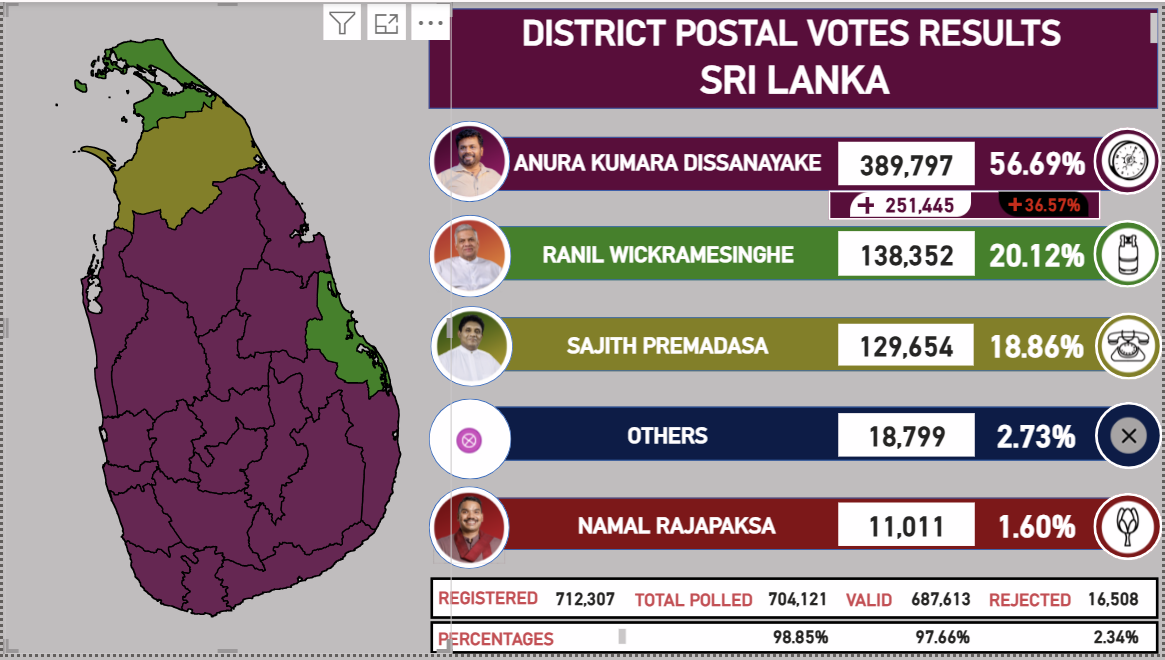

Layout of this report page (visuals, bound fields, positions):
{"tool":"powerbi","page":{"name":"Postal Votes","canvas":[1280,720],"ordinal":1},"visuals":[{"type":"shape","title":"5th Position Shape","box":[544,547.8,709.9,57.8],"z":0},{"type":"shape","title":"4th Position Shape","box":[544,447.2,711.7,59.6],"z":1000},{"type":"shape","title":"3rd Position Shape","box":[532.9,348.4,711.7,59.6],"z":2000},{"type":"shape","title":"2nd Position Shape","box":[536.6,247.8,711.7,59.6],"z":3000},{"type":"shape","title":"1st Position Shape","box":[529.1,149.1,711.7,59.6],"z":4000},{"type":"shapeMap","fields":{"Category":["Postal_Votes.District"]},"box":[1.4,0,494.4,719.6],"z":5000},{"type":"card","fields":{"Values":["Postal_Votes.FirstTopVotes_Postal"]},"box":[922.8,154.1,151.1,47.9],"z":6000},{"type":"card","fields":{"Values":["Postal_Votes.ThirdTopVotes_Postal"]},"box":[922.8,356,149.6,46.4],"z":7000},{"type":"card","fields":{"Values":["Postal_Votes.FourthTopVotes_Postal"]},"box":[922.8,453.2,151.1,47.9],"z":8000},{"type":"card","fields":{"Values":["Postal_Votes.SecondTopVotes_Postal"]},"box":[922.8,252.8,151.1,49.4],"z":9000},{"type":"card","fields":{"Values":["Postal_Valid_Votes.Vote_Percentage_1st_bar"]},"box":[1072.3,141.6,137.2,66.4],"z":10000},{"type":"card","fields":{"Values":["Postal_Valid_Votes.Vote_Percentage_2nd_bar"]},"box":[1073.2,244.1,137.9,65.2],"z":11000},{"type":"card","fields":{"Values":["Postal_Valid_Votes.Vote_Percentage_3rd_bar"]},"box":[1072.4,345.5,136.1,61.3],"z":12000},{"type":"card","fields":{"Values":["Postal_Valid_Votes.Vote_Percentage_4th_bar"]},"box":[1072.3,442.5,135.7,66.4],"z":13000},{"type":"shape","box":[470.4,131.5,90,90],"z":14000},{"type":"shape","box":[469.5,234.8,91.3,91.3],"z":15000},{"type":"shape","box":[471.4,335.4,91.3,89.4],"z":16000},{"type":"shape","box":[469.5,437.8,91.3,89.4],"z":17000},{"type":"shape","box":[1204.9,138.3,75,75],"z":18000},{"type":"shape","box":[1204.9,240.7,75.3,75.3],"z":19000},{"type":"shape","box":[1205.5,342.8,74.5,74.5],"z":20000},{"type":"shape","box":[1205.5,441.6,74.5,74.5],"z":21000},{"type":"card","fields":{"Values":["Postal_Votes.FirstTopCandidateName_Postal"]},"box":[532.9,109.9,402.4,134.1],"z":22000},{"type":"card","fields":{"Values":["Postal_Votes.SecondTopCandidateName_Postal"]},"box":[544,210.5,382,136],"z":23000},{"type":"card","fields":{"Values":["Postal_Votes.ThirdTopCandidateName_Postal"]},"box":[532.9,311.1,402.4,136],"z":24000},{"type":"card","fields":{"Values":["Postal_Votes.FourthTopCandidateName_Postal"]},"box":[532.9,411.8,402.4,134.1],"z":25000},{"type":"shape","box":[1203.6,542.2,76.4,74.5],"z":26000},{"type":"shape","box":[469.5,534.7,89.4,91.3],"z":27000},{"type":"imageDB603108E3FF4EBFB8047F5653368E8C","fields":{"imageUrl":["Postal_Votes.Image_2nd_Rank_Postal"]},"box":[470.4,235.2,90.1,90.1],"z":28000},{"type":"imageDB603108E3FF4EBFB8047F5653368E8C","fields":{"imageUrl":["Postal_Votes.Image_1st_Rank_Postal"]},"box":[470.4,131,90.1,90.1],"z":29000},{"type":"imageDB603108E3FF4EBFB8047F5653368E8C","fields":{"imageUrl":["Postal_Votes.Image_3rd_Rank_Postal"]},"box":[471.4,335.4,91.3,89.4],"z":30000},{"type":"imageDB603108E3FF4EBFB8047F5653368E8C","fields":{"imageUrl":["Postal_Votes.Image_5th_Rank_Postal"]},"box":[469.5,534.7,89.4,91.3],"z":31000},{"type":"imageDB603108E3FF4EBFB8047F5653368E8C","fields":{"imageUrl":["Postal_Votes.Party_1st_Rank_Postal"]},"box":[1208.5,140.8,70.4,70.4],"z":32000},{"type":"imageDB603108E3FF4EBFB8047F5653368E8C","fields":{"imageUrl":["Postal_Votes.Party_2nd_Rank_Postal"]},"box":[1208.5,243.7,70.4,70.4],"z":33000},{"type":"imageDB603108E3FF4EBFB8047F5653368E8C","fields":{"imageUrl":["Postal_Votes.Party_3rd_Rank_Postal"]},"box":[1207,345.1,70.4,70.4],"z":34000},{"type":"imageDB603108E3FF4EBFB8047F5653368E8C","fields":{"imageUrl":["Postal_Votes.Party_4th_Rank_Postal"]},"box":[1207,443.7,70.4,70.4],"z":35000},{"type":"imageDB603108E3FF4EBFB8047F5653368E8C","fields":{"imageUrl":["Postal_Votes.Party_5th_Rank_Postal"]},"box":[1207,545.1,69,69],"z":36000},{"type":"imageDB603108E3FF4EBFB8047F5653368E8C","fields":{"imageUrl":["Postal_Votes.Image_4th_Rank_Postal"]},"box":[469.5,439.7,89.4,89.4],"z":37000},{"type":"card","fields":{"Values":["Postal_Votes.FifthTopCandidateName_Postal"]},"box":[544,510.5,400.6,134.1],"z":38000},{"type":"card","fields":{"Values":["Postal_Votes.FifthTopVotes_Postal"]},"box":[922.8,551.9,151.1,47.9],"z":39000},{"type":"card","fields":{"Values":["Postal_Valid_Votes.Vote_Percentage_5th_bar"]},"box":[1072.4,542.9,136.1,64.3],"z":40000},{"type":"shape","box":[471.1,635.2,804.2,46],"z":41000},{"type":"shape","box":[471.1,683.6,804.2,36],"z":42000},{"type":"textbox","box":[476.1,642.6,130.5,36],"z":43000},{"type":"textbox","box":[693.6,645.1,159.1,46],"z":44000},{"type":"textbox","box":[926,645.1,72.1,46],"z":45000},{"type":"textbox","box":[1083.9,645.1,110.6,46],"z":46000},{"type":"textbox","box":[476.1,687.4,217.5,28.6],"z":47000},{"type":"card","fields":{"Values":["Sum(Postal_Valid_Votes.Registered)"]},"box":[582.9,637.6,119.3,43.5],"z":48000},{"type":"card","fields":{"Values":["Sum(Postal_Valid_Votes.Total_Polled)"]},"box":[817.9,637.6,119.3,43.5],"z":49000},{"type":"card","fields":{"Values":["Sum(Postal_Valid_Votes.Total_Valid)"]},"box":[975.7,637.6,119.3,43.5],"z":50000},{"type":"card","fields":{"Values":["Postal_Valid_Votes.Rejected_Postal_Votes"]},"box":[1172.1,637.6,108.1,43.5],"z":51000},{"type":"card","fields":{"Values":["Postal_Valid_Votes.Polled_Percentage_Postal"]},"box":[821.1,681.7,118.3,38],"z":52000},{"type":"card","fields":{"Values":["Postal_Valid_Votes.Valid_Percentage_Postal"]},"box":[978.9,681.7,119.7,38],"z":53000},{"type":"card","fields":{"Values":["Postal_Valid_Votes.Rejected_Percentage_Postal"]},"box":[1181.7,681.7,97.2,38],"z":54000},{"type":"shape","box":[469.8,7.5,805.4,110.6],"z":55000},{"type":"card","title":"District","fields":{"Values":["Postal_Votes.District_Display_Postal"]},"box":[509.6,46,729.6,69.6],"z":56000},{"type":"shape","box":[911,207.3,300.6,32.4],"z":57000},{"type":"image","box":[1095,188.8,108.8,70],"z":58000},{"type":"image","box":[852.3,204.2,299.6,37.9],"z":59000},{"type":"card","fields":{"Values":["Postal_Votes.Vote_Difference_Postal"]},"box":[953,194.8,119.7,57],"z":60000},{"type":"card","fields":{"Values":["Postal_Votes.Percentage_Difference_Postal"]},"box":[1118.8,210,82.5,28.8],"z":61000},{"type":"image","box":[1105.4,210.8,24.6,26.9],"z":62000},{"type":"shape","box":[944.6,215.1,18.1,18.1],"z":63000},{"type":"shape","box":[944.9,215.3,17.8,18.6],"z":64000},{"type":"textbox","box":[470.4,7,809.9,47.9],"z":65000}]}

Visuals, with their boxes in screenshot pixels (x1, y1, x2, y2), scaled from the page's 1280x720 canvas onto the 1165x660 screenshot:
"5th Position Shape" shape: {"left": 495, "top": 502, "right": 1141, "bottom": 555}
"4th Position Shape" shape: {"left": 495, "top": 410, "right": 1143, "bottom": 465}
"3rd Position Shape" shape: {"left": 485, "top": 319, "right": 1133, "bottom": 374}
"2nd Position Shape" shape: {"left": 488, "top": 227, "right": 1136, "bottom": 282}
"1st Position Shape" shape: {"left": 482, "top": 137, "right": 1129, "bottom": 191}
shapeMap - Postal_Votes.District: {"left": 1, "top": 0, "right": 451, "bottom": 659}
card - Postal_Votes.FirstTopVotes_Postal: {"left": 840, "top": 141, "right": 977, "bottom": 185}
card - Postal_Votes.ThirdTopVotes_Postal: {"left": 840, "top": 326, "right": 976, "bottom": 369}
card - Postal_Votes.FourthTopVotes_Postal: {"left": 840, "top": 415, "right": 977, "bottom": 459}
card - Postal_Votes.SecondTopVotes_Postal: {"left": 840, "top": 232, "right": 977, "bottom": 277}
card - Postal_Valid_Votes.Vote_Percentage_1st_bar: {"left": 976, "top": 130, "right": 1101, "bottom": 191}
card - Postal_Valid_Votes.Vote_Percentage_2nd_bar: {"left": 977, "top": 224, "right": 1102, "bottom": 284}
card - Postal_Valid_Votes.Vote_Percentage_3rd_bar: {"left": 976, "top": 317, "right": 1100, "bottom": 373}
card - Postal_Valid_Votes.Vote_Percentage_4th_bar: {"left": 976, "top": 406, "right": 1099, "bottom": 466}
shape: {"left": 428, "top": 121, "right": 510, "bottom": 203}
shape: {"left": 427, "top": 215, "right": 510, "bottom": 299}
shape: {"left": 429, "top": 307, "right": 512, "bottom": 389}
shape: {"left": 427, "top": 401, "right": 510, "bottom": 483}
shape: {"left": 1097, "top": 127, "right": 1164, "bottom": 196}
shape: {"left": 1097, "top": 221, "right": 1164, "bottom": 290}
shape: {"left": 1097, "top": 314, "right": 1164, "bottom": 383}
shape: {"left": 1097, "top": 405, "right": 1164, "bottom": 473}
card - Postal_Votes.FirstTopCandidateName_Postal: {"left": 485, "top": 101, "right": 851, "bottom": 224}
card - Postal_Votes.SecondTopCandidateName_Postal: {"left": 495, "top": 193, "right": 843, "bottom": 318}
card - Postal_Votes.ThirdTopCandidateName_Postal: {"left": 485, "top": 285, "right": 851, "bottom": 410}
card - Postal_Votes.FourthTopCandidateName_Postal: {"left": 485, "top": 377, "right": 851, "bottom": 500}
shape: {"left": 1095, "top": 497, "right": 1164, "bottom": 565}
shape: {"left": 427, "top": 490, "right": 509, "bottom": 574}
imageDB603108E3FF4EBFB8047F5653368E8C - Postal_Votes.Image_2nd_Rank_Postal: {"left": 428, "top": 216, "right": 510, "bottom": 298}
imageDB603108E3FF4EBFB8047F5653368E8C - Postal_Votes.Image_1st_Rank_Postal: {"left": 428, "top": 120, "right": 510, "bottom": 203}
imageDB603108E3FF4EBFB8047F5653368E8C - Postal_Votes.Image_3rd_Rank_Postal: {"left": 429, "top": 307, "right": 512, "bottom": 389}
imageDB603108E3FF4EBFB8047F5653368E8C - Postal_Votes.Image_5th_Rank_Postal: {"left": 427, "top": 490, "right": 509, "bottom": 574}
imageDB603108E3FF4EBFB8047F5653368E8C - Postal_Votes.Party_1st_Rank_Postal: {"left": 1100, "top": 129, "right": 1164, "bottom": 194}
imageDB603108E3FF4EBFB8047F5653368E8C - Postal_Votes.Party_2nd_Rank_Postal: {"left": 1100, "top": 223, "right": 1164, "bottom": 288}
imageDB603108E3FF4EBFB8047F5653368E8C - Postal_Votes.Party_3rd_Rank_Postal: {"left": 1099, "top": 316, "right": 1163, "bottom": 381}
imageDB603108E3FF4EBFB8047F5653368E8C - Postal_Votes.Party_4th_Rank_Postal: {"left": 1099, "top": 407, "right": 1163, "bottom": 471}
imageDB603108E3FF4EBFB8047F5653368E8C - Postal_Votes.Party_5th_Rank_Postal: {"left": 1099, "top": 500, "right": 1161, "bottom": 563}
imageDB603108E3FF4EBFB8047F5653368E8C - Postal_Votes.Image_4th_Rank_Postal: {"left": 427, "top": 403, "right": 509, "bottom": 485}
card - Postal_Votes.FifthTopCandidateName_Postal: {"left": 495, "top": 468, "right": 860, "bottom": 591}
card - Postal_Votes.FifthTopVotes_Postal: {"left": 840, "top": 506, "right": 977, "bottom": 550}
card - Postal_Valid_Votes.Vote_Percentage_5th_bar: {"left": 976, "top": 498, "right": 1100, "bottom": 557}
shape: {"left": 429, "top": 582, "right": 1161, "bottom": 624}
shape: {"left": 429, "top": 627, "right": 1161, "bottom": 659}
textbox: {"left": 433, "top": 589, "right": 552, "bottom": 622}
textbox: {"left": 631, "top": 591, "right": 776, "bottom": 634}
textbox: {"left": 843, "top": 591, "right": 908, "bottom": 634}
textbox: {"left": 987, "top": 591, "right": 1087, "bottom": 634}
textbox: {"left": 433, "top": 630, "right": 631, "bottom": 656}
card - Sum(Postal_Valid_Votes.Registered): {"left": 531, "top": 584, "right": 639, "bottom": 624}
card - Sum(Postal_Valid_Votes.Total_Polled): {"left": 744, "top": 584, "right": 853, "bottom": 624}
card - Sum(Postal_Valid_Votes.Total_Valid): {"left": 888, "top": 584, "right": 997, "bottom": 624}
card - Postal_Valid_Votes.Rejected_Postal_Votes: {"left": 1067, "top": 584, "right": 1164, "bottom": 624}
card - Postal_Valid_Votes.Polled_Percentage_Postal: {"left": 747, "top": 625, "right": 855, "bottom": 659}
card - Postal_Valid_Votes.Valid_Percentage_Postal: {"left": 891, "top": 625, "right": 1000, "bottom": 659}
card - Postal_Valid_Votes.Rejected_Percentage_Postal: {"left": 1076, "top": 625, "right": 1164, "bottom": 659}
shape: {"left": 428, "top": 7, "right": 1161, "bottom": 108}
"District" card: {"left": 464, "top": 42, "right": 1128, "bottom": 106}
shape: {"left": 829, "top": 190, "right": 1103, "bottom": 220}
image: {"left": 997, "top": 173, "right": 1096, "bottom": 237}
image: {"left": 776, "top": 187, "right": 1048, "bottom": 222}
card - Postal_Votes.Vote_Difference_Postal: {"left": 867, "top": 179, "right": 976, "bottom": 231}
card - Postal_Votes.Percentage_Difference_Postal: {"left": 1018, "top": 192, "right": 1093, "bottom": 219}
image: {"left": 1006, "top": 193, "right": 1028, "bottom": 218}
shape: {"left": 860, "top": 197, "right": 876, "bottom": 214}
shape: {"left": 860, "top": 197, "right": 876, "bottom": 214}
textbox: {"left": 428, "top": 6, "right": 1164, "bottom": 50}
